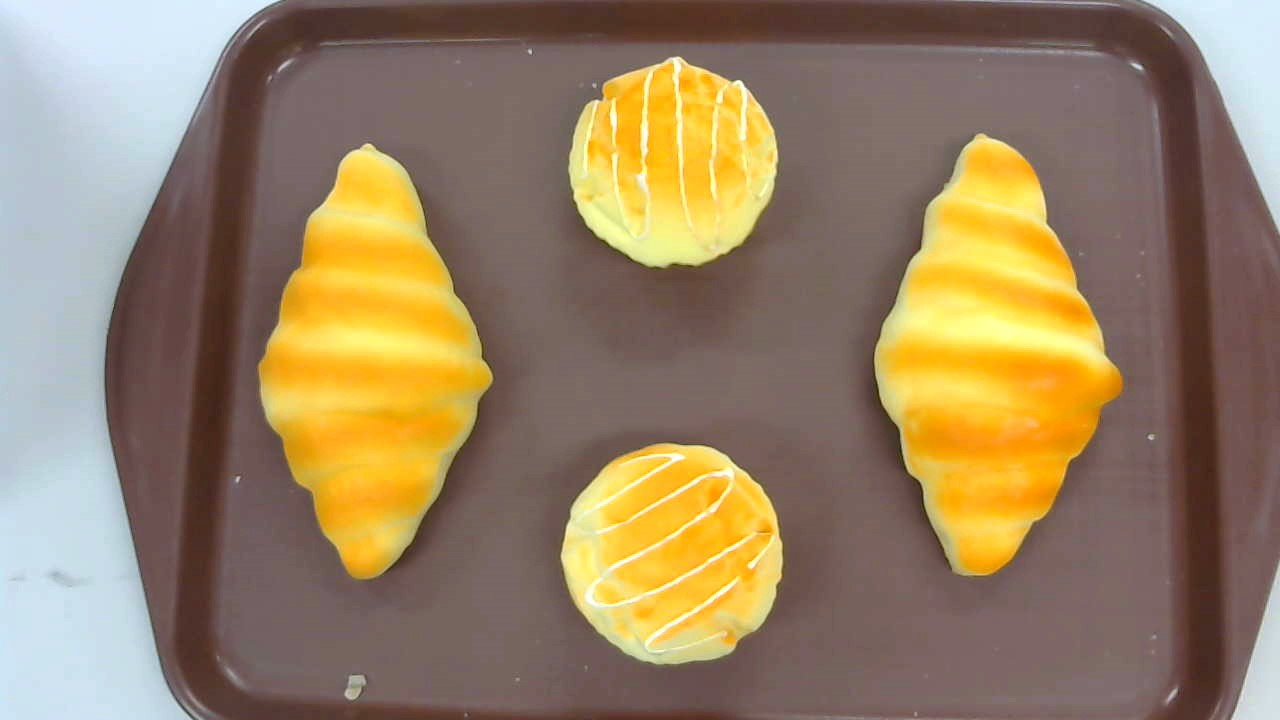croissant: (872, 131, 1122, 578), (257, 142, 493, 583)
cupcake: (560, 442, 784, 668), (569, 53, 778, 271)
